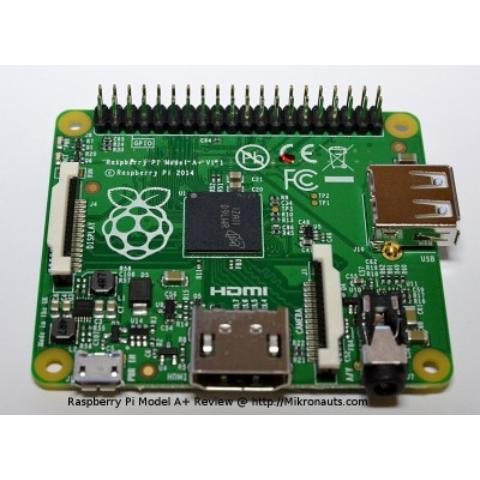Raspberry-Pi-1-Model-A-: (22, 73, 469, 415)
